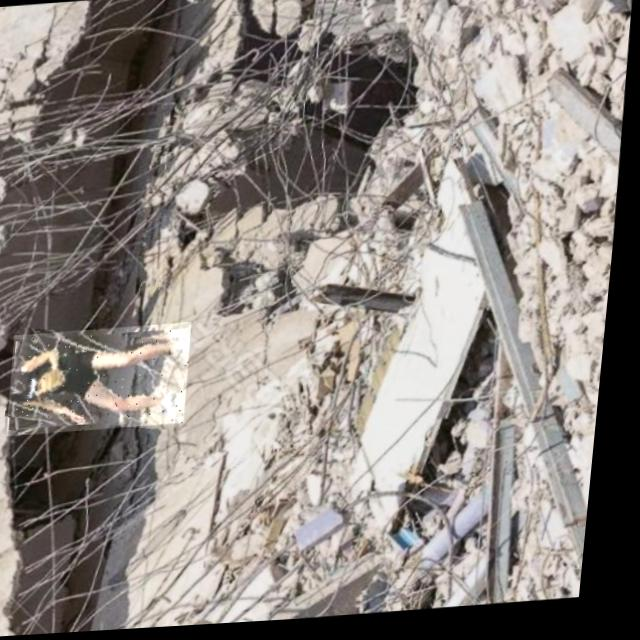Person in Rubble: (13, 323, 200, 435)
